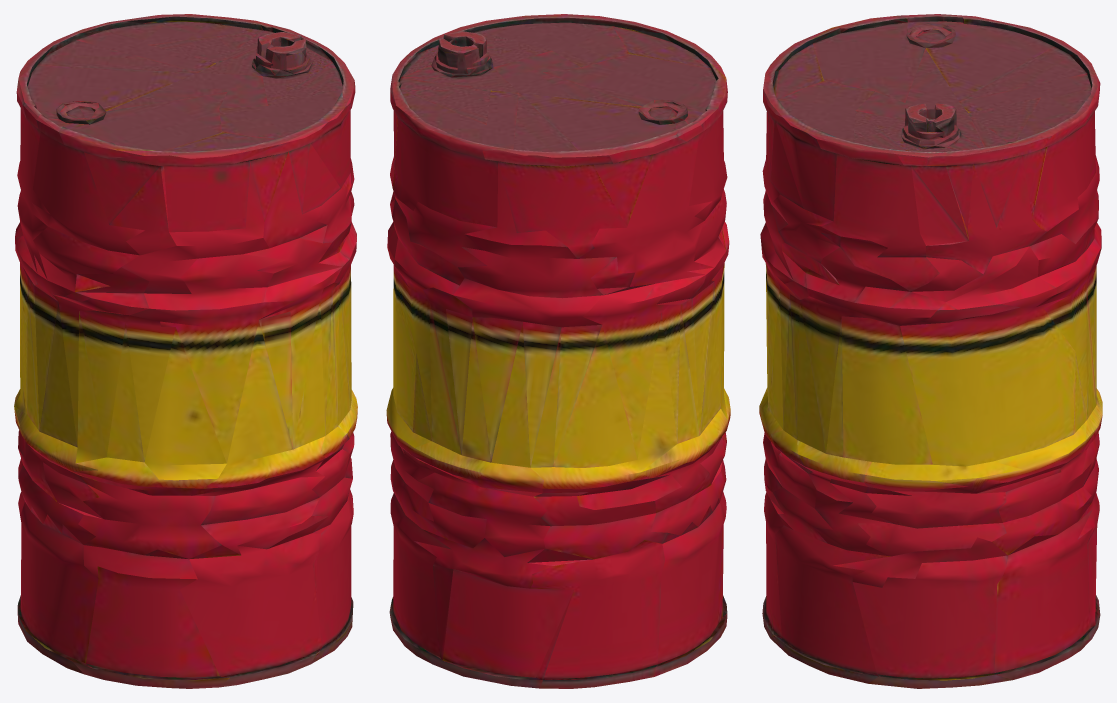
The model's file is drum.glb.
The picture shows the model from 3 angles, left to right: view 1: azimuth 30°, elevation 25°; view 2: azimuth 150°, elevation 25°; view 3: azimuth 270°, elevation 25°; orthographic projection.
Size of the model in its own units: 1.07 by 1.9 by 1.07.
1 material, 1 textured.
